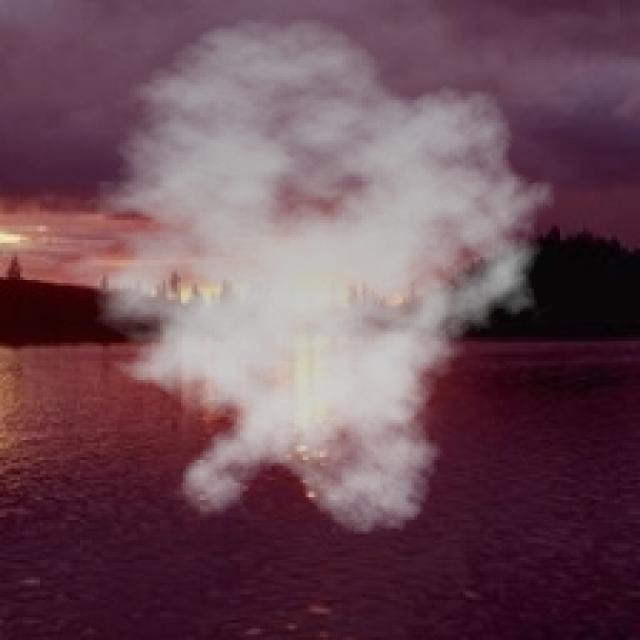smoke: (37, 17, 569, 537)
